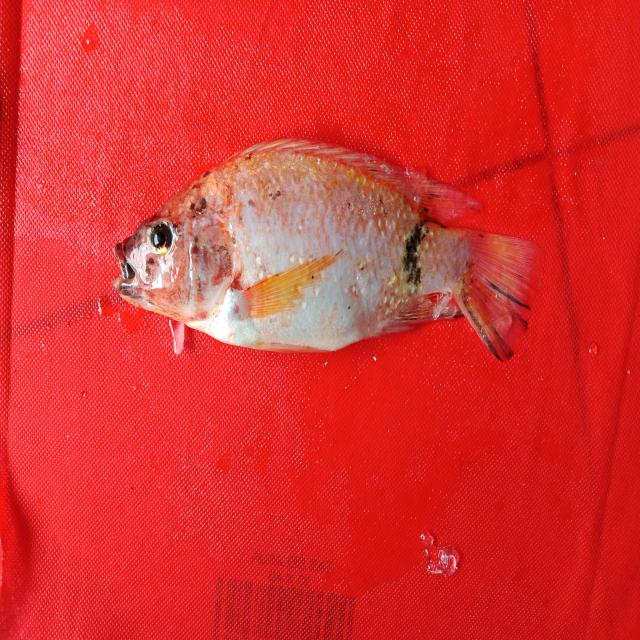ikan: (111, 136, 539, 363)
